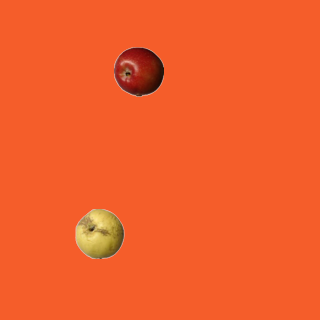Apple Braeburn: (113, 46, 163, 96)
Apple Golden 1: (74, 208, 124, 258)
